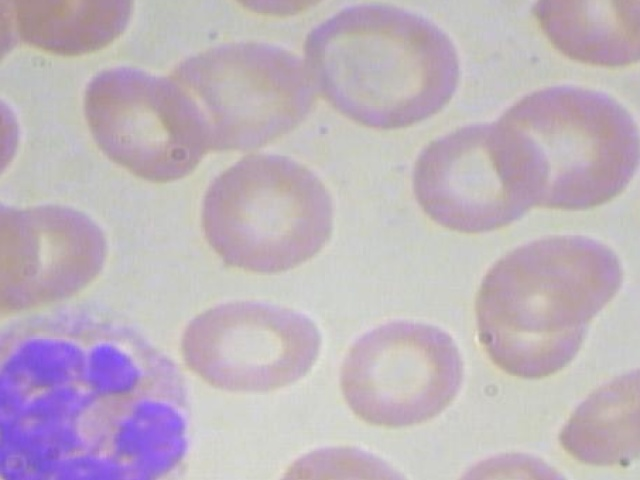RBC: (295, 0, 470, 137), (483, 79, 640, 217), (175, 30, 333, 154), (181, 149, 338, 273), (401, 117, 550, 237), (325, 317, 482, 425), (472, 227, 635, 329), (470, 245, 591, 379), (79, 56, 208, 180), (177, 293, 323, 400), (545, 349, 640, 474), (525, 0, 640, 75), (0, 188, 40, 305), (0, 75, 27, 199), (631, 152, 640, 277)
WBC: (0, 294, 218, 480)
